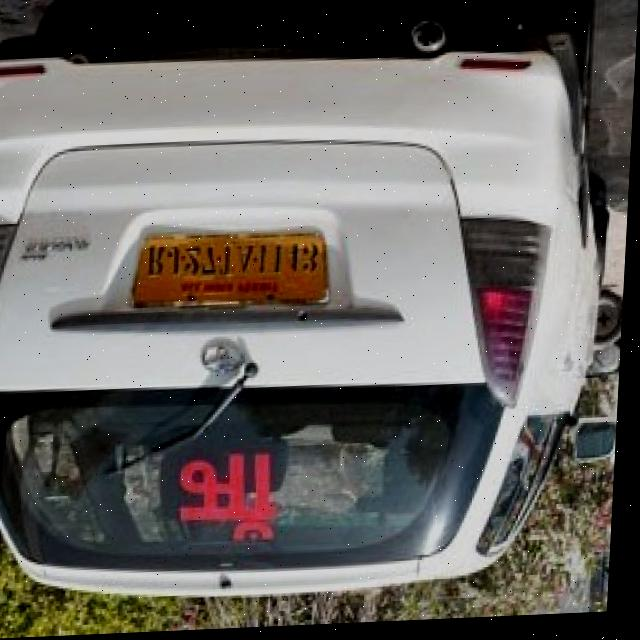plate: (130, 230, 335, 317)
